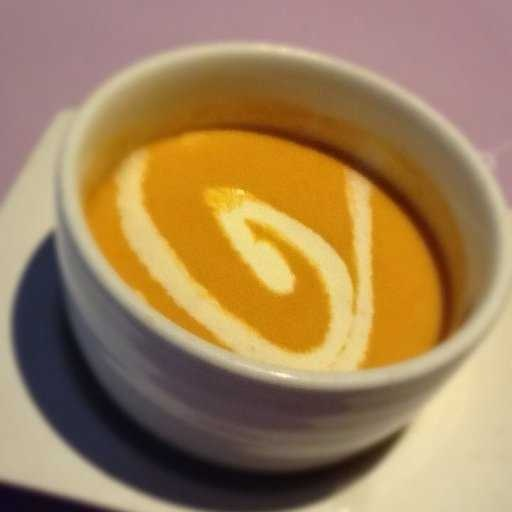soup: (92, 87, 440, 385)
